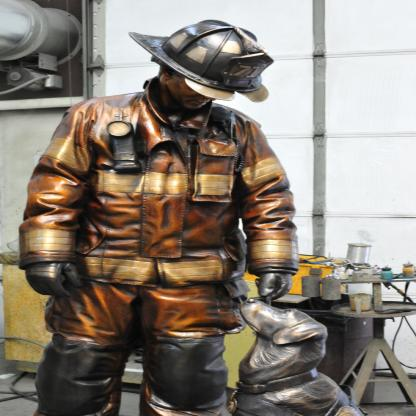Helmet: (128, 20, 269, 107)
